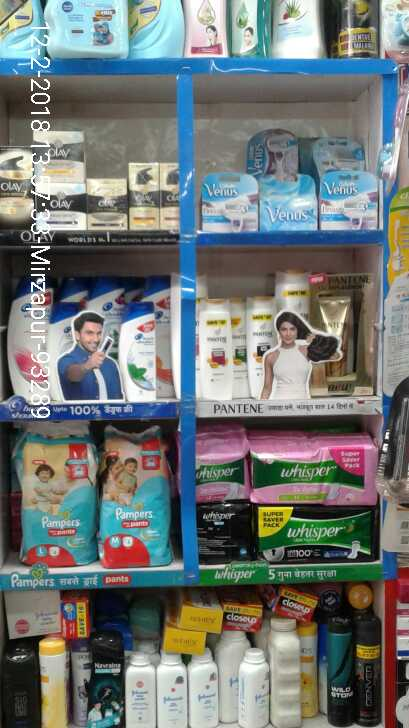venus: (319, 173, 376, 230), (261, 175, 319, 230), (203, 175, 261, 228), (246, 127, 300, 170), (310, 136, 362, 172)
